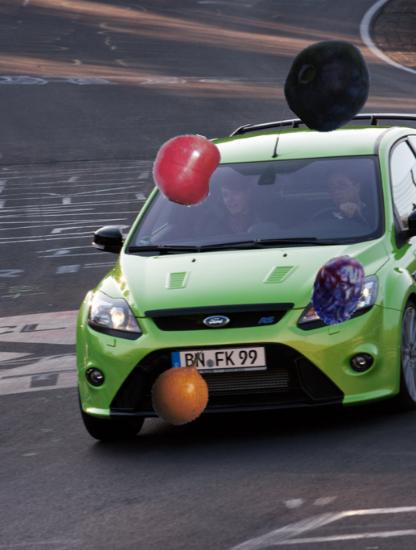Blueberry: (283, 37, 376, 130)
Cherry: (149, 132, 221, 204)
Dates: (302, 254, 375, 327)
Granadilla: (142, 344, 225, 427)
